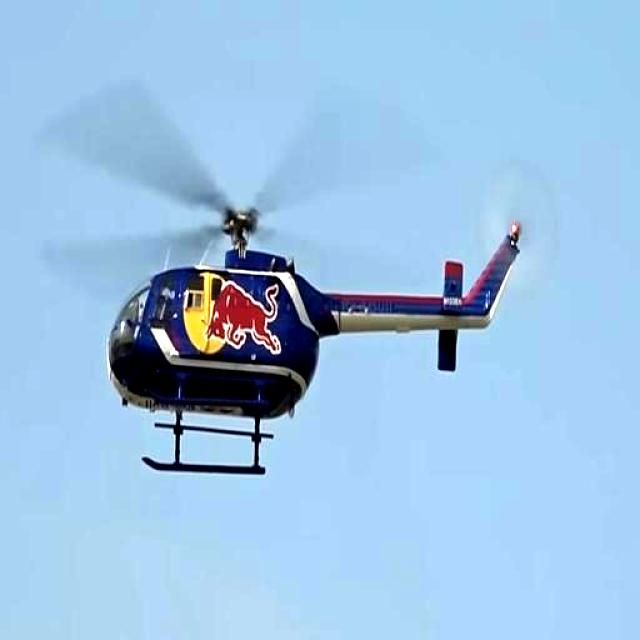drone: (30, 42, 531, 500)
